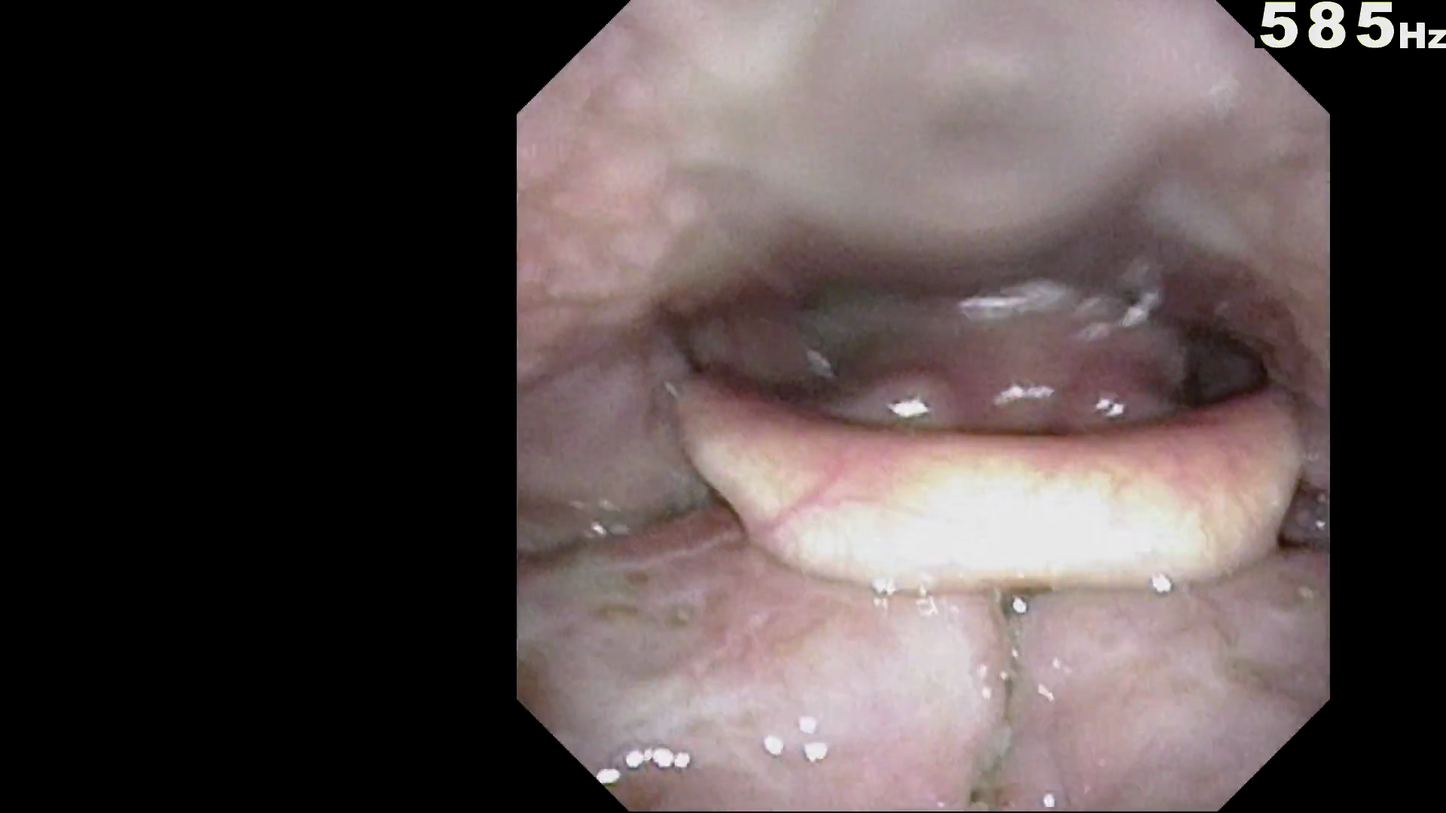epiglottis: (647, 343, 1324, 644)
trachea: (936, 424, 1066, 497)
